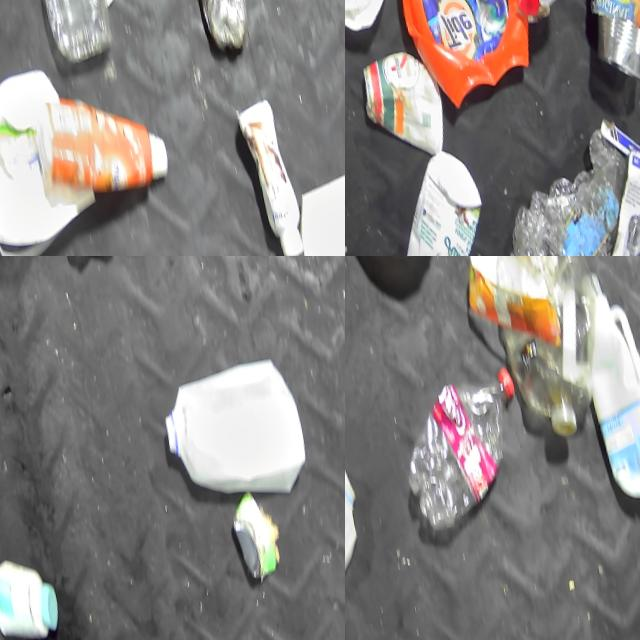can: (357, 36, 444, 142), (222, 488, 296, 600), (582, 0, 640, 77)
milk_jug: (147, 346, 316, 513), (571, 279, 640, 514), (345, 425, 376, 625), (345, 256, 460, 279)
non_white_jug: (27, 76, 178, 219), (389, 0, 539, 101)
plastic_bottle: (479, 256, 629, 441), (388, 353, 538, 532), (31, 0, 110, 67)
